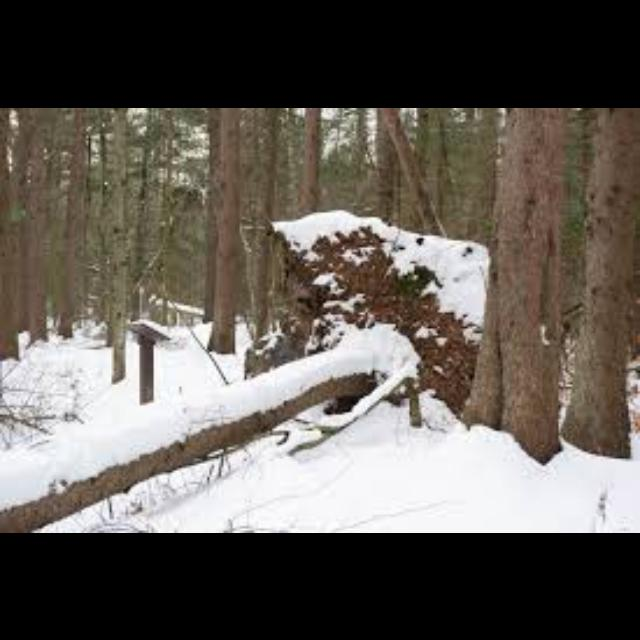Fallen Tree: (1, 322, 429, 480)
